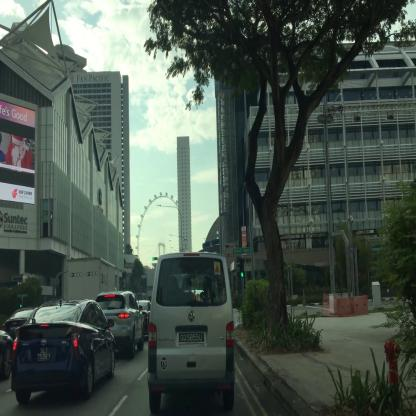green_traffic_light: (239, 257, 244, 278), (152, 257, 157, 260)
